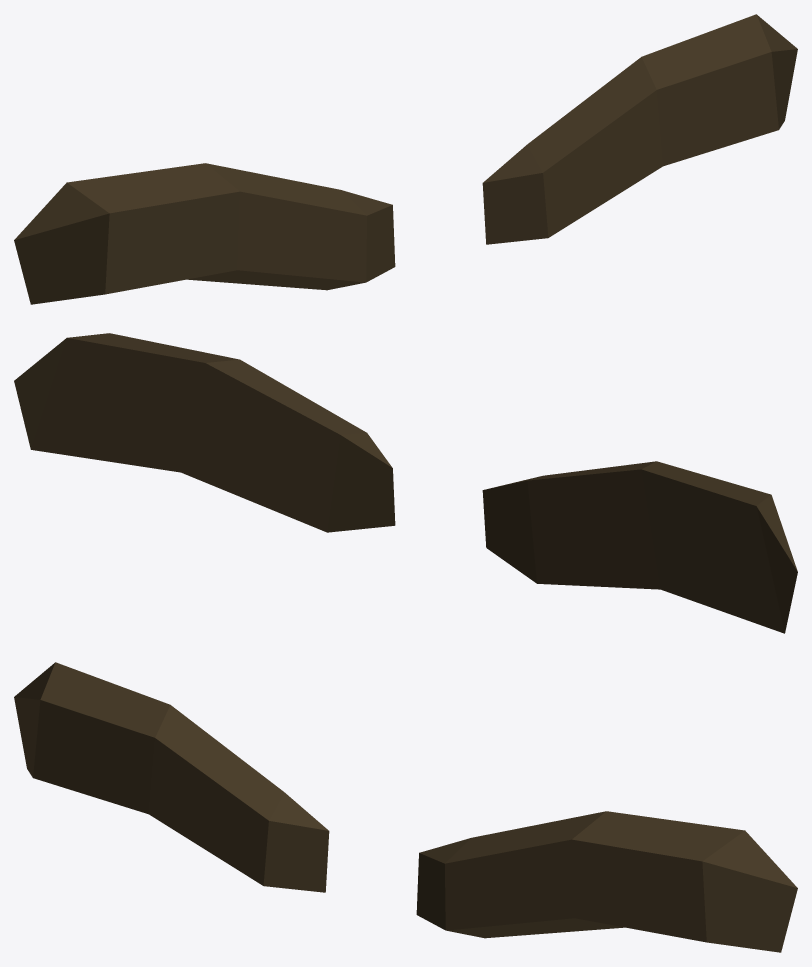
The model's file is Chr_Eyebrow_Female_04_Static.fbx.
The picture shows the model from 3 angles, top to bottom: view 1: azimuth 30°, elevation 25°; view 2: azimuth 150°, elevation 25°; view 3: azimuth 330°, elevation 25°; orthographic projection.
Parts seen in each view (by area): view 1: Chr_Eyebrow_Female_04_Static; view 2: Chr_Eyebrow_Female_04_Static; view 3: Chr_Eyebrow_Female_04_Static.
Part boxes in pixels (x1,y1,x2,y2): Chr_Eyebrow_Female_04_Static: (14, 14, 797, 304); Chr_Eyebrow_Female_04_Static: (14, 333, 797, 633); Chr_Eyebrow_Female_04_Static: (14, 662, 797, 952).
Bounding box in the file's own units: 0.1721 × 0.0317 × 0.0195.
